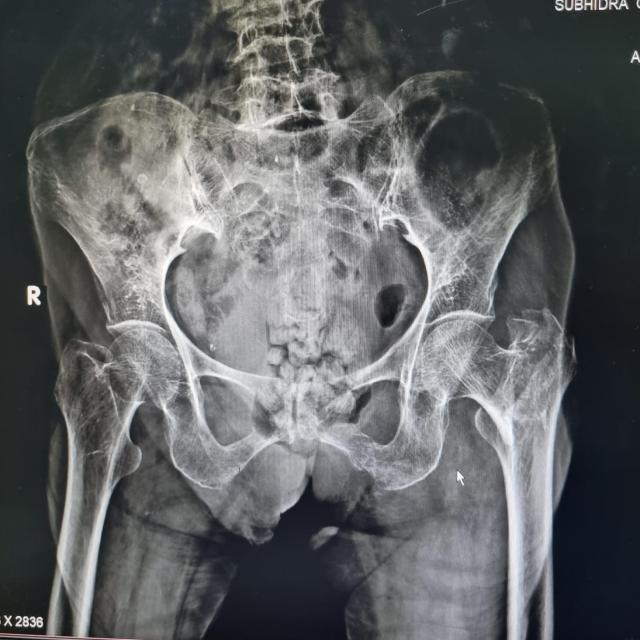left-neck: (475, 307, 579, 518), (422, 319, 528, 459)
normal-right: (53, 327, 181, 533)
